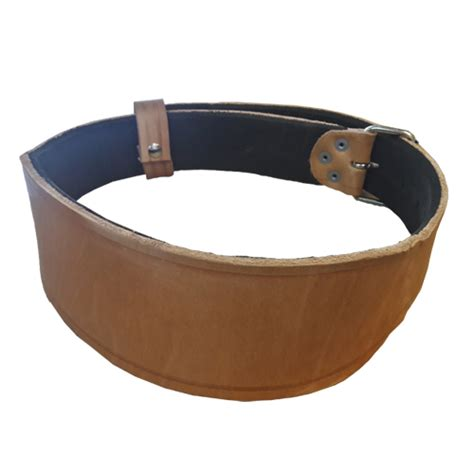cuero: (23, 98, 450, 403)
